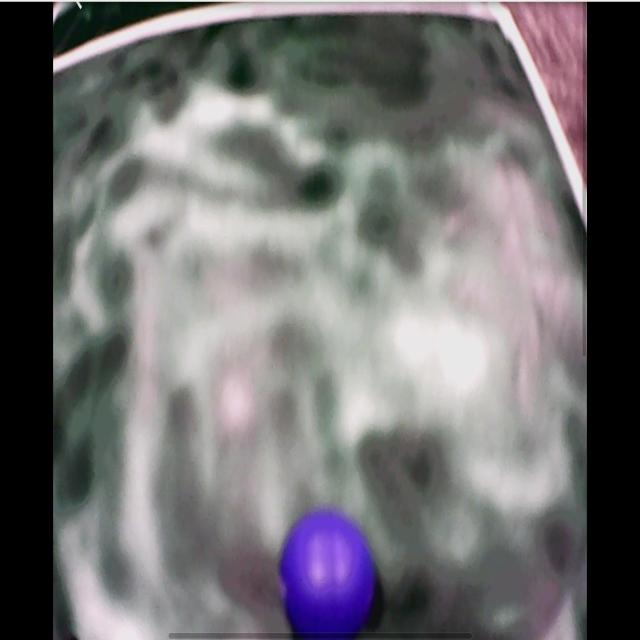ball: (281, 511, 379, 635)
